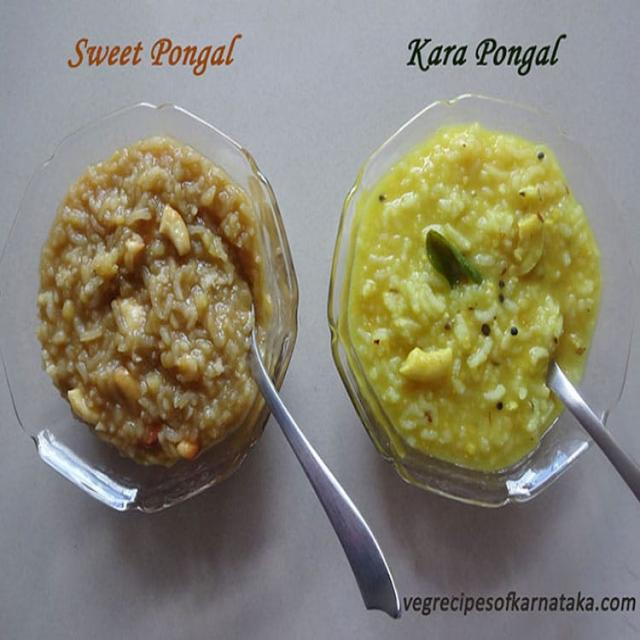khara pongal: (337, 108, 614, 484)
